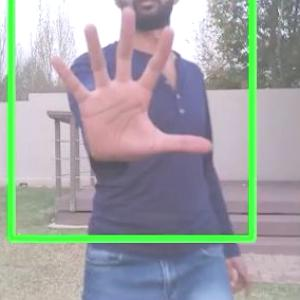follow_hand: (47, 6, 214, 167)
